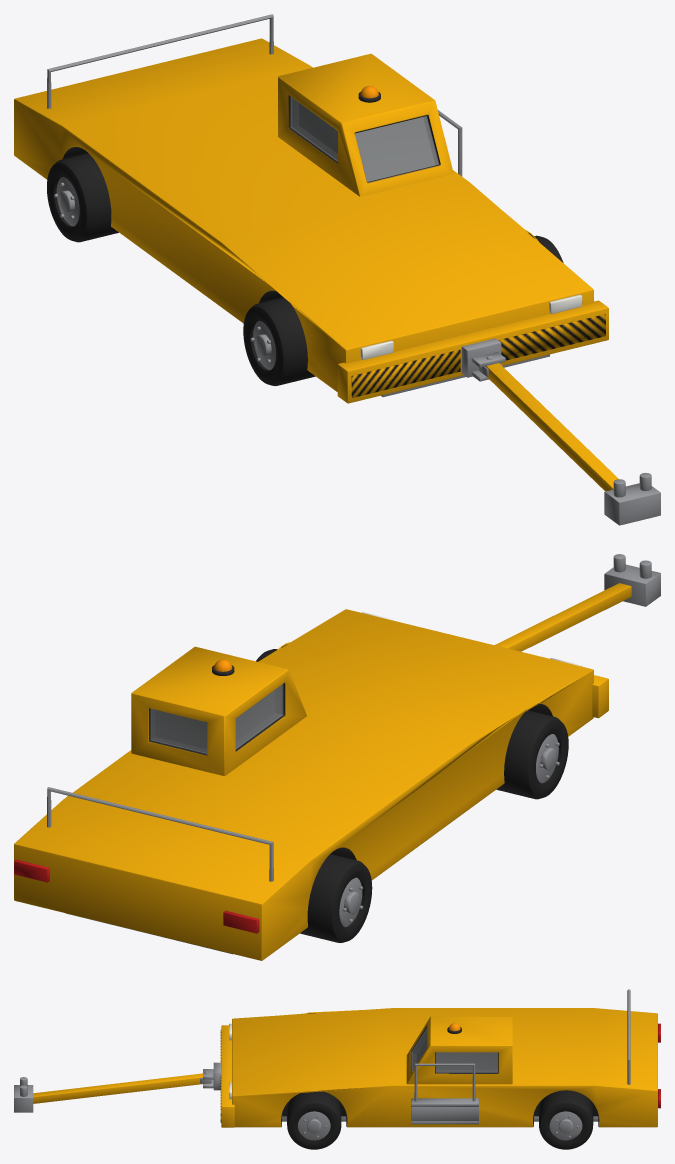
File: indo-thai.mobile.glb
3 renders of one model, top to bottom at view 1: azimuth 30°, elevation 25°; view 2: azimuth 150°, elevation 25°; view 3: azimuth 270°, elevation 25°, orthographic. The views are drawn at different scales.
Visible parts, largest first — view 1: tug, wheels, towbar; view 2: tug, wheels, towbar; view 3: tug, wheels, towbar.
Part boxes in pixels (x1,y1,x2,y2): tug: (14, 14, 608, 403); wheels: (47, 153, 563, 386); towbar: (478, 363, 660, 525); tug: (14, 609, 608, 960); wheels: (67, 649, 568, 942); towbar: (494, 554, 660, 651); tug: (203, 989, 660, 1127); wheels: (287, 1090, 593, 1149); towbar: (14, 1073, 211, 1112).
Bounding box in the file's own units: 2.23 × 1.2 × 6.68.
4 materials, 3 textured.
